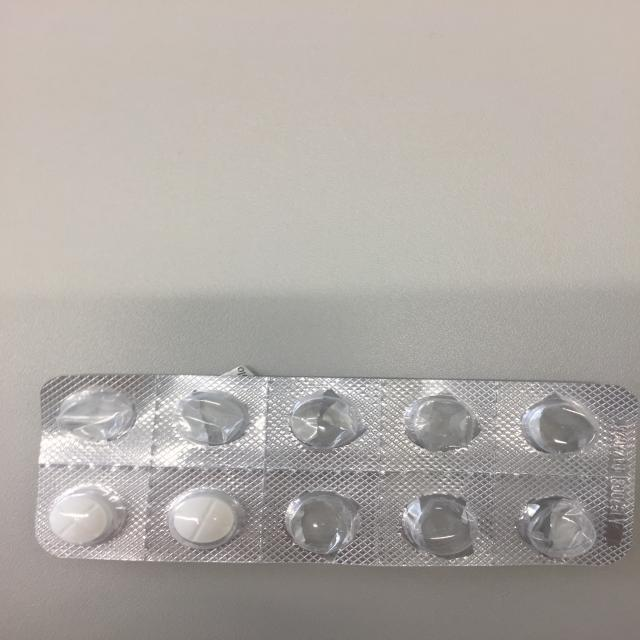Empty: (388, 486, 488, 563), (275, 486, 366, 563), (511, 496, 611, 563), (511, 392, 605, 462), (280, 388, 375, 455), (399, 390, 486, 453), (168, 386, 250, 451), (59, 382, 136, 446)
Pill: (160, 487, 250, 556), (39, 484, 124, 552)
